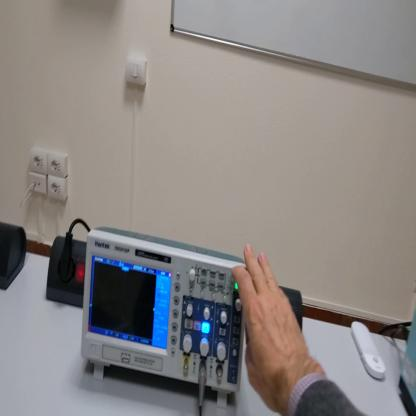hand: (232, 247, 314, 404)
oscilloscope: (80, 229, 247, 410)
socket: (47, 234, 85, 307), (2, 219, 28, 291)
welder base: (398, 304, 416, 415)
